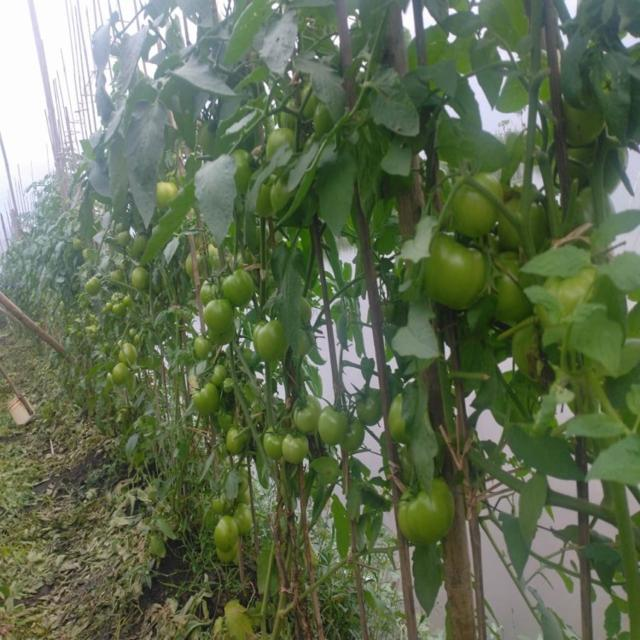tomato: (424, 235, 487, 317), (441, 169, 499, 246), (391, 475, 452, 544), (498, 194, 547, 260), (489, 266, 526, 326), (251, 313, 289, 363), (226, 266, 263, 313), (355, 387, 395, 426), (290, 393, 327, 432), (283, 427, 313, 469), (385, 397, 410, 444), (204, 298, 236, 334), (323, 400, 347, 443), (207, 534, 236, 569), (343, 414, 368, 454), (203, 514, 233, 546), (202, 274, 232, 304), (260, 125, 296, 150), (196, 384, 220, 416), (234, 504, 256, 536), (111, 364, 140, 387), (268, 421, 287, 455), (131, 266, 151, 296), (118, 343, 139, 369), (218, 371, 238, 397), (158, 178, 175, 208), (227, 426, 243, 456), (195, 332, 215, 355), (106, 270, 126, 290), (82, 273, 102, 293), (210, 359, 224, 385), (119, 295, 133, 315), (106, 302, 118, 318)
